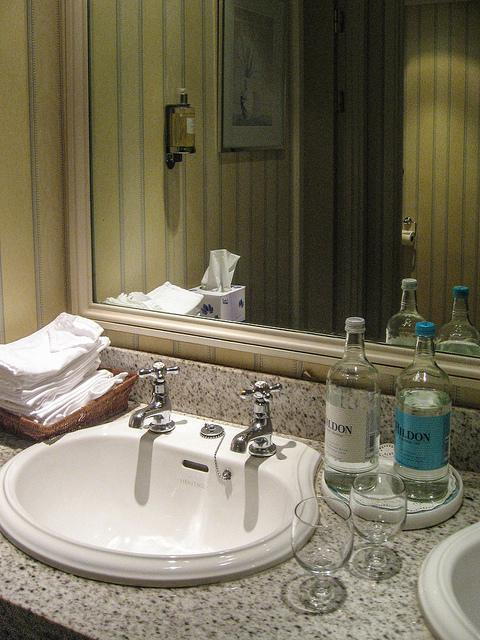Lavamanos: (0, 362, 324, 594), (410, 513, 479, 639)
